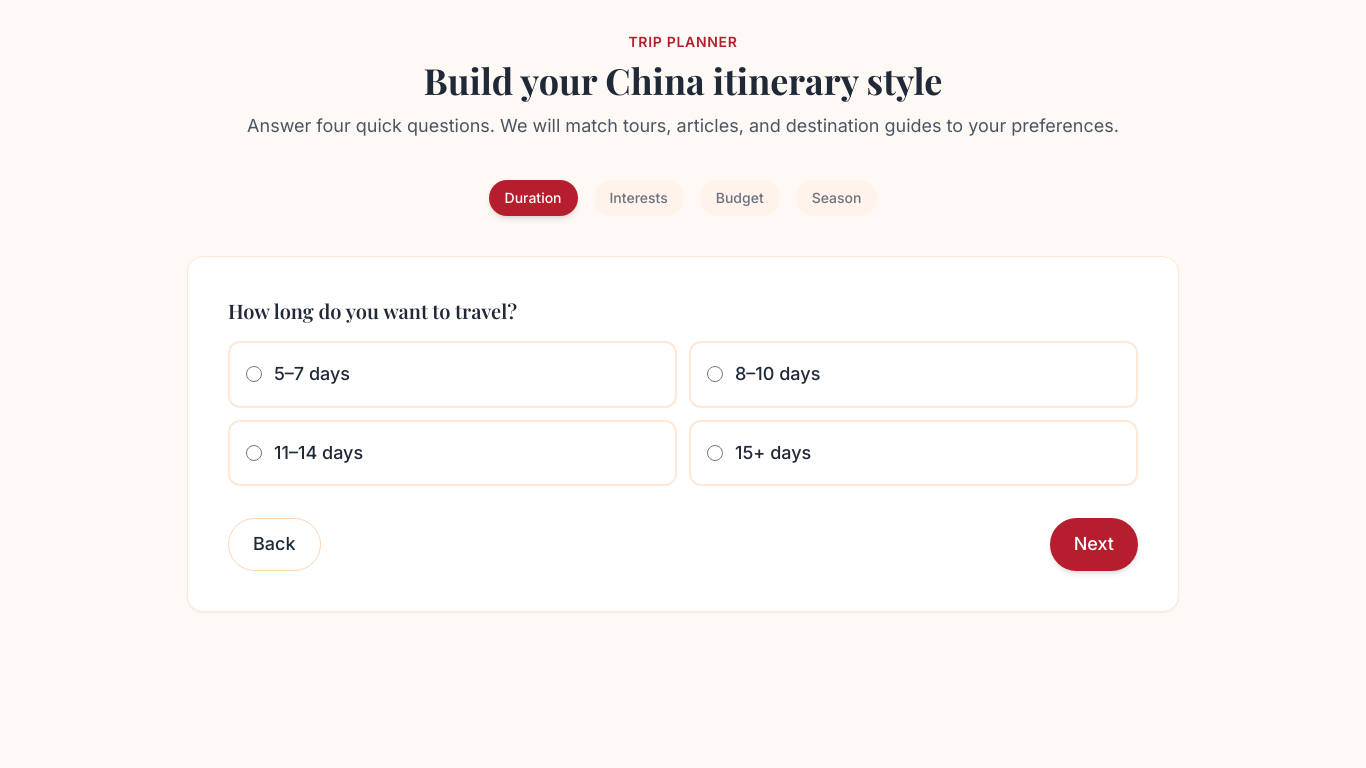
Test case: TripPlanner component › disables see recommendations until season selected
Click the radio button labelled "8–10 days" at (715, 374), box 707,366 -> 723,382
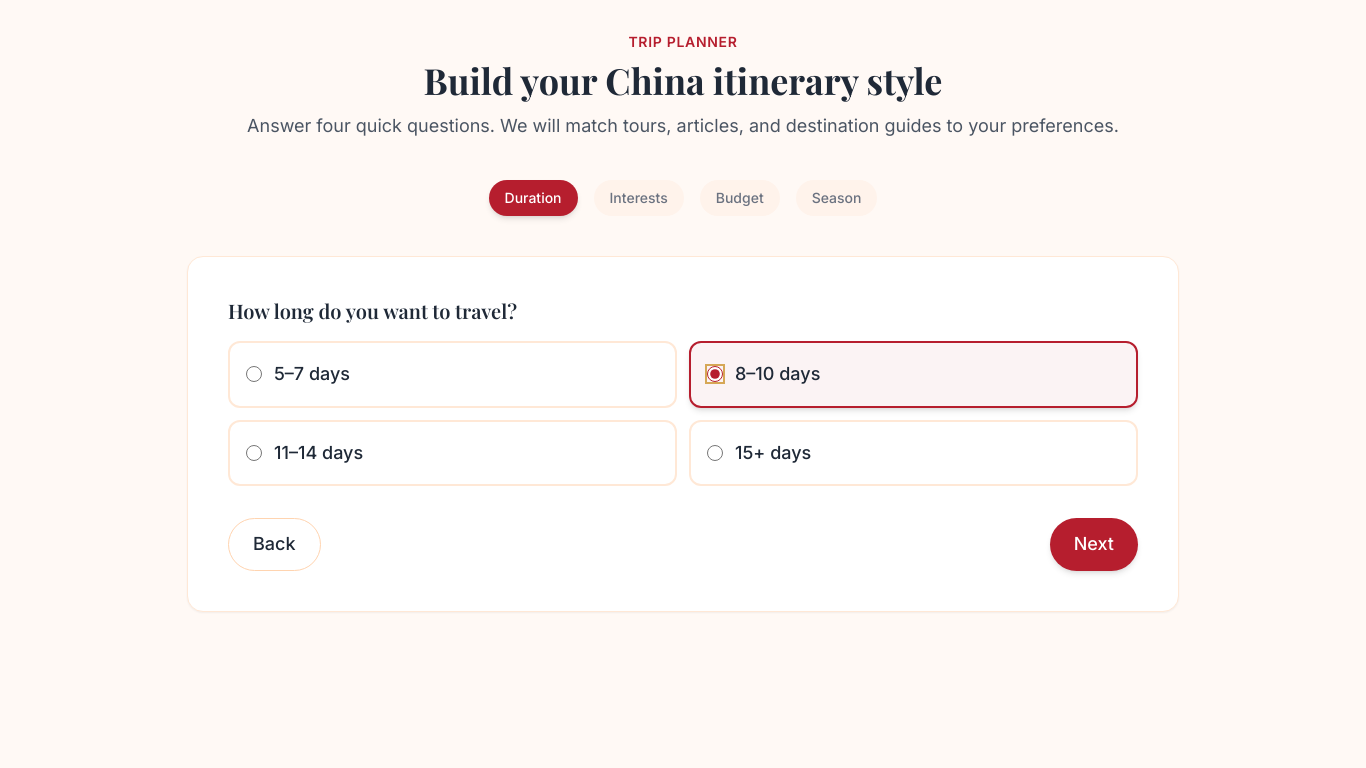
Click the button "Next" at (1094, 544), box 1050,518 -> 1138,571
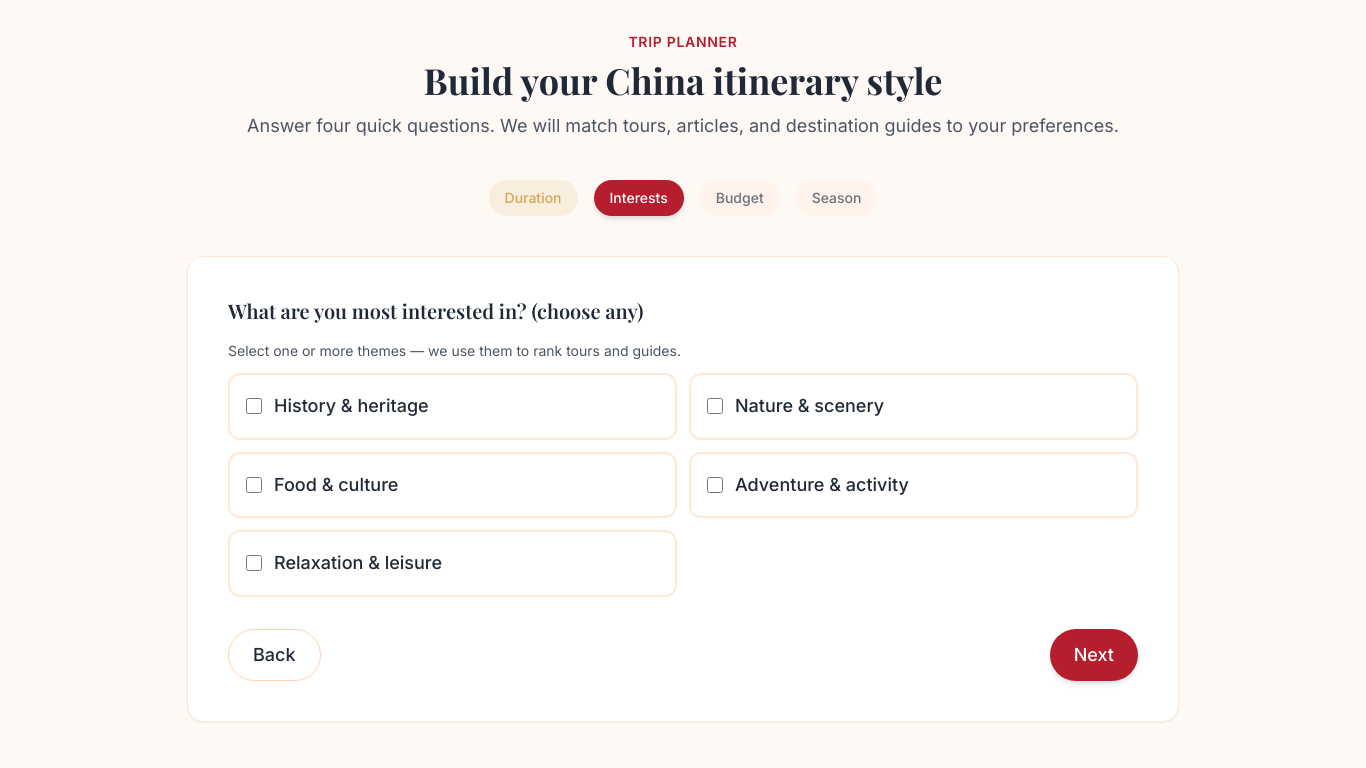
Click the checkbox labelled "History & heritage" at (254, 406), box 246,398 -> 262,414
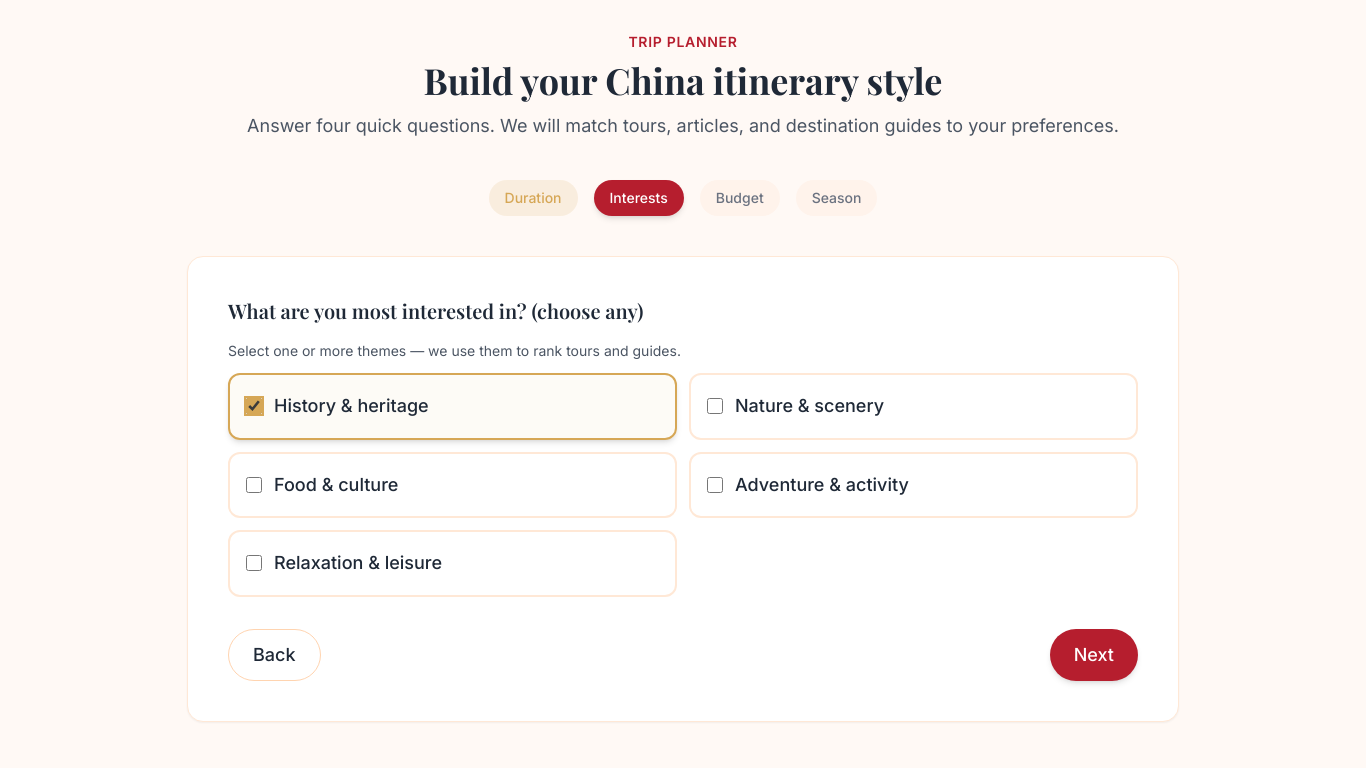
Click the button "Next" at (1094, 655), box 1050,629 -> 1138,681
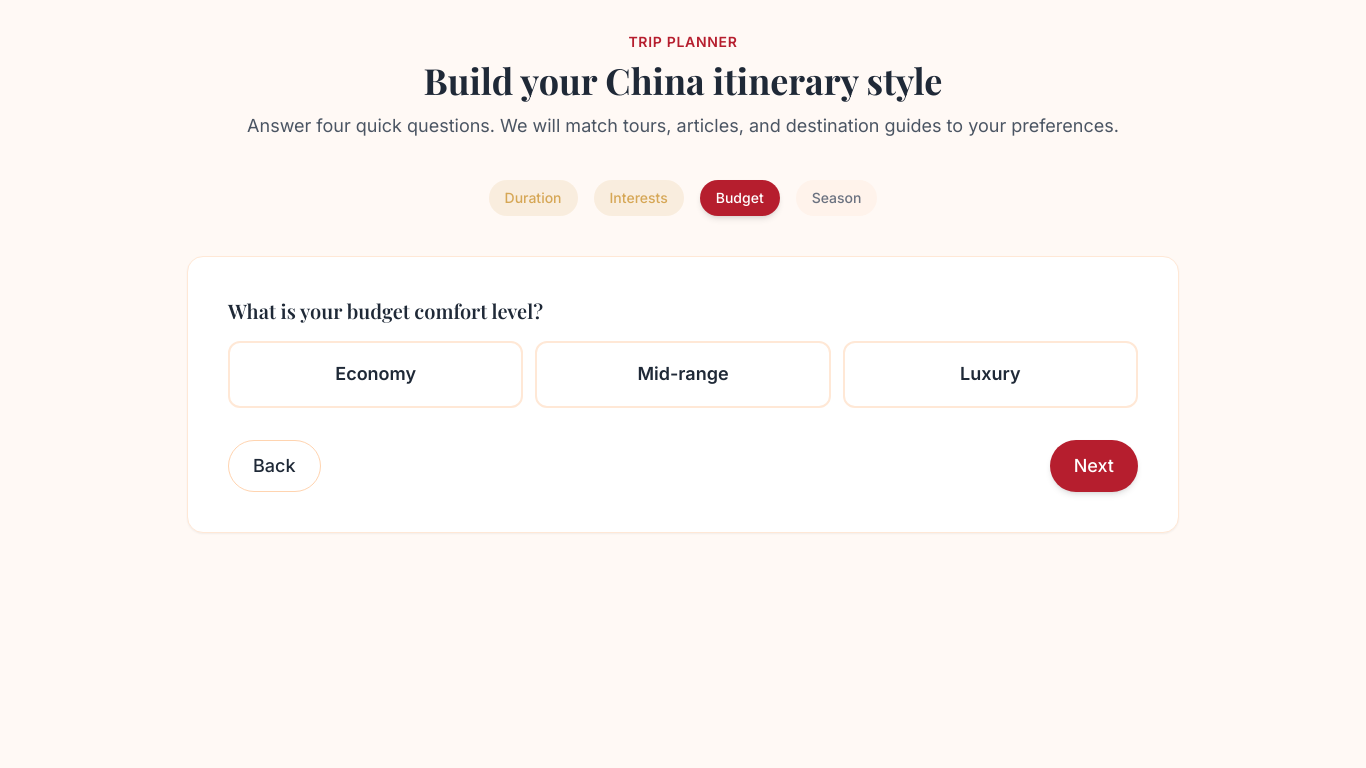
Click the radio button labelled "Mid-range" at (683, 374), box 535,341 -> 831,408
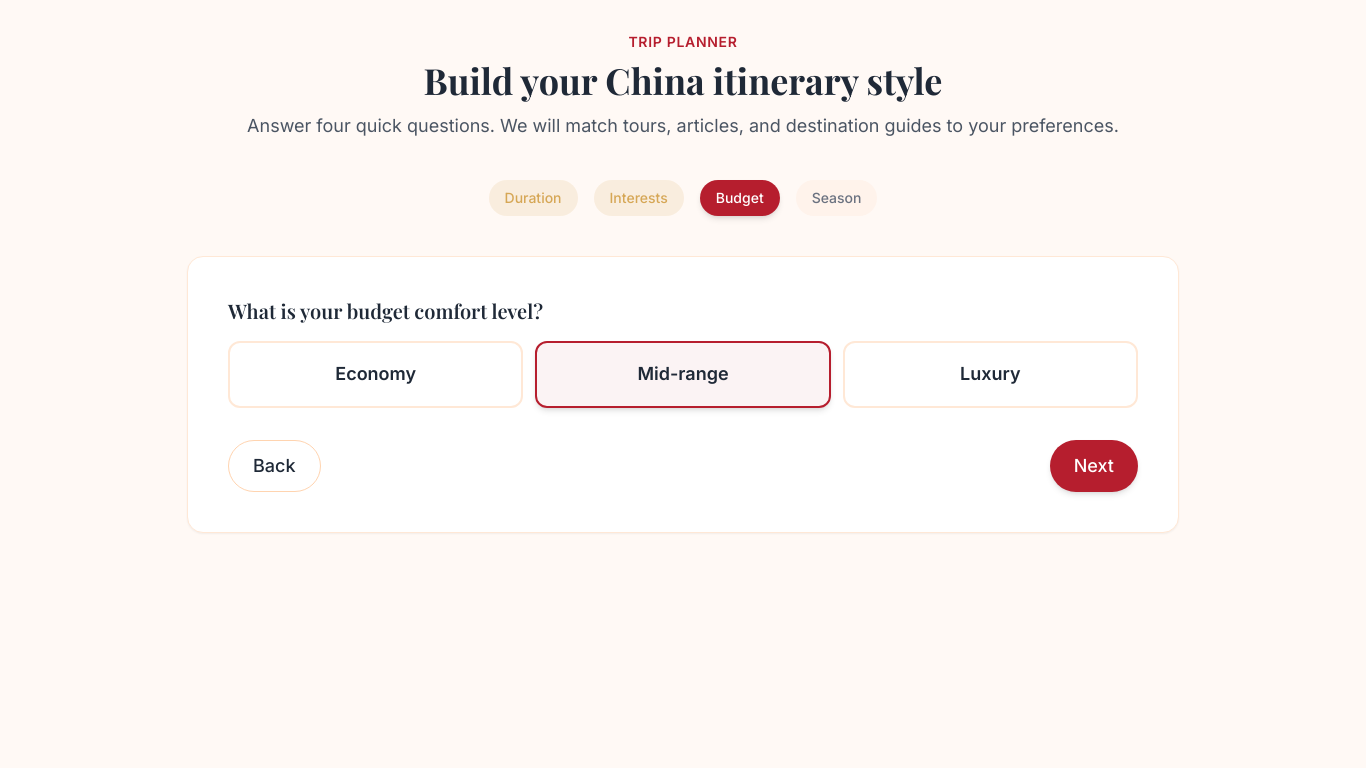
Click the button "Next" at (1094, 466), box 1050,440 -> 1138,492
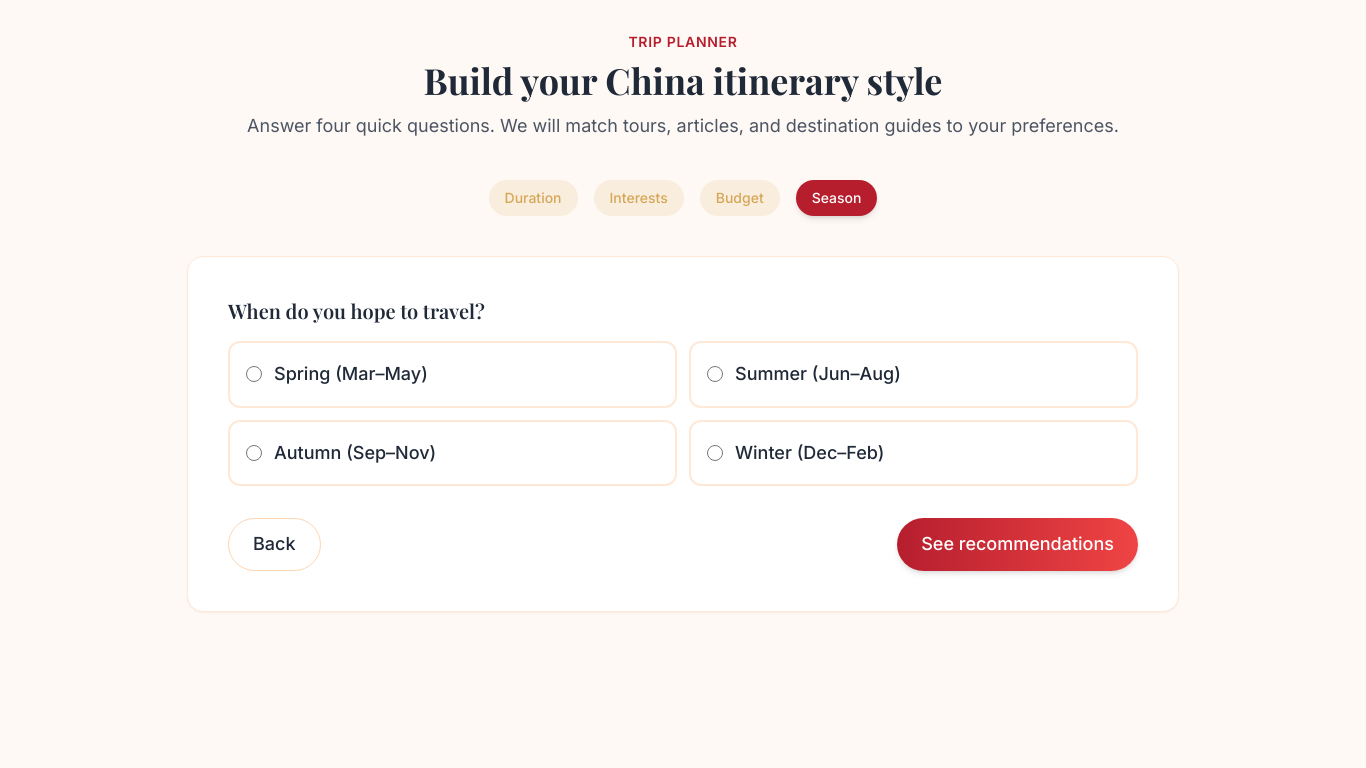
Expected: the button "See recommendations" is disabled, 897,518 -> 1138,571
